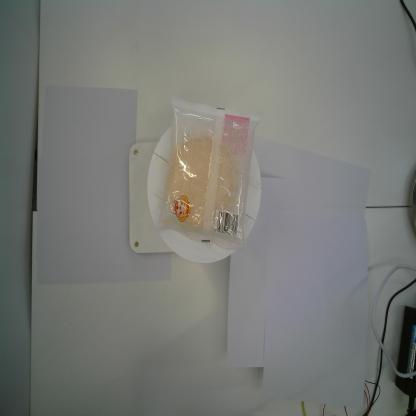Dessert: (156, 96, 260, 253)
